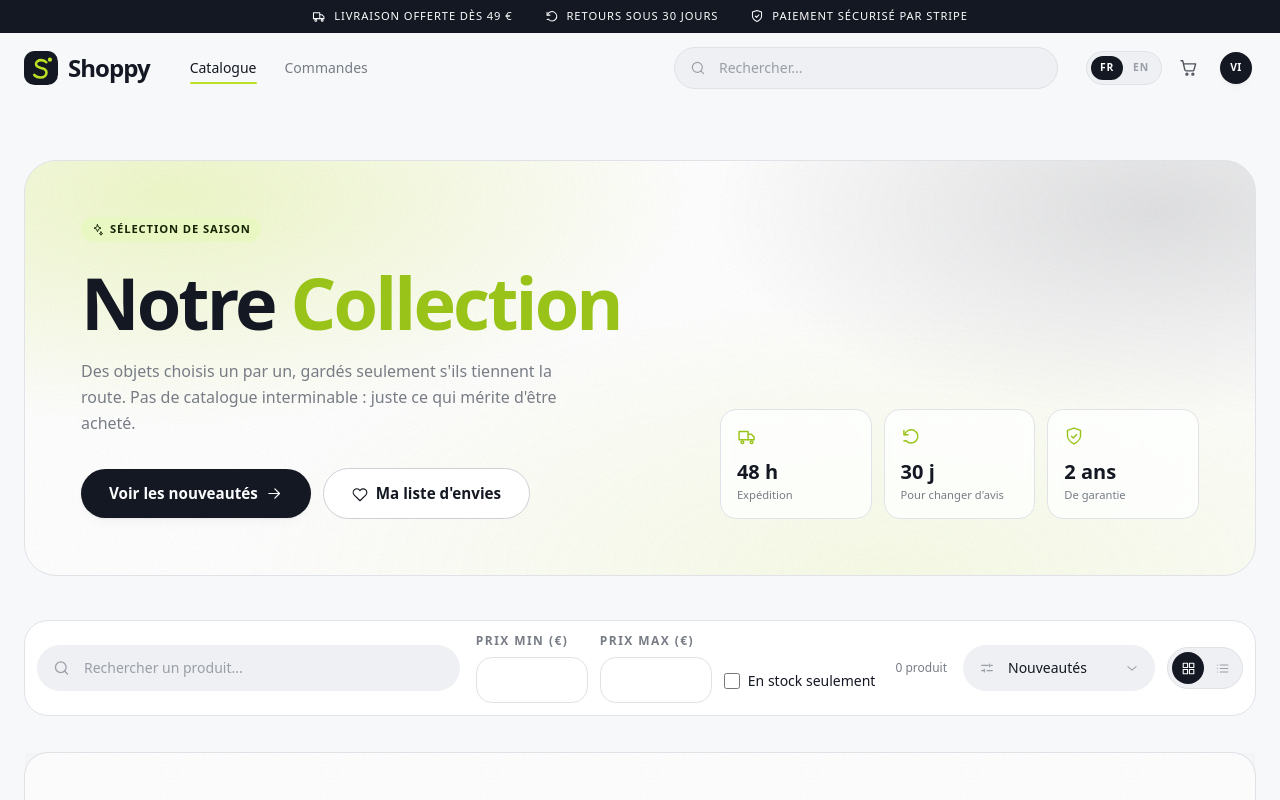
Test: AppLayout auth nav › keeps favorites and theme out of the header when logged in
Expected: the link "Favoris" is not shown
Expected: the element "Apparence" is not shown
Click the button with aria-label "Mon compte" at (1236,68), box left=1216, top=48, right=1256, bottom=88
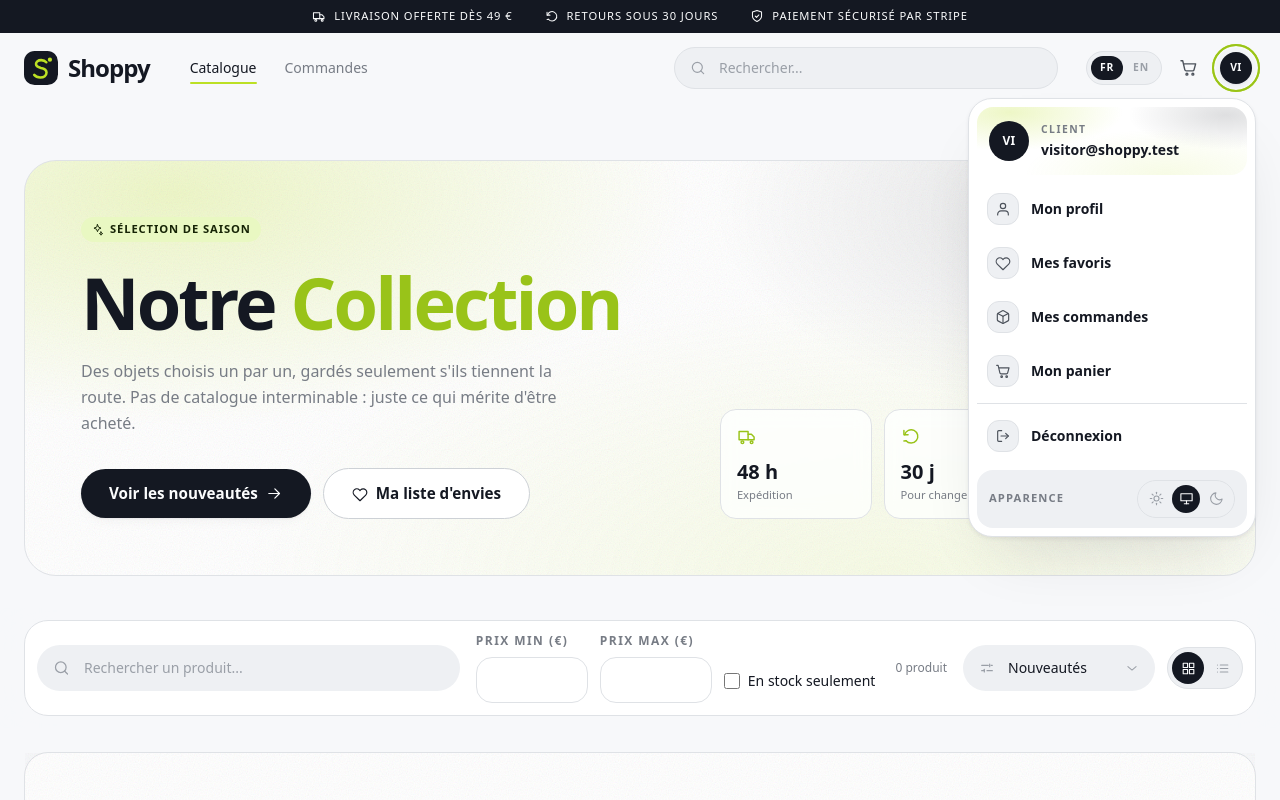
Now the menu item "Mes favoris" is shown, box left=987, top=247, right=1111, bottom=279
Now the element named "Apparence" is shown, box left=1137, top=480, right=1235, bottom=518
